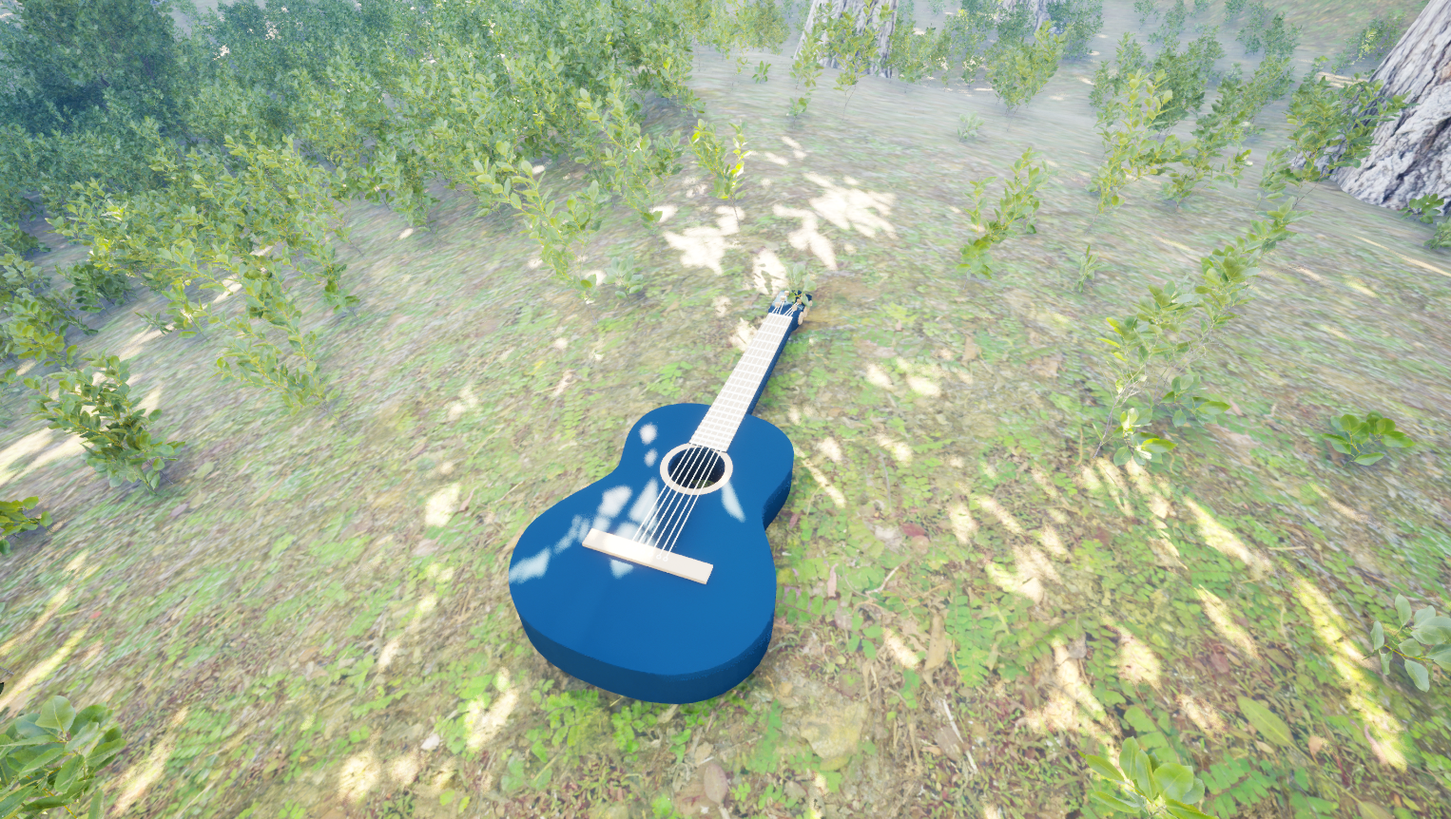Guitar: (462, 267, 877, 740)
